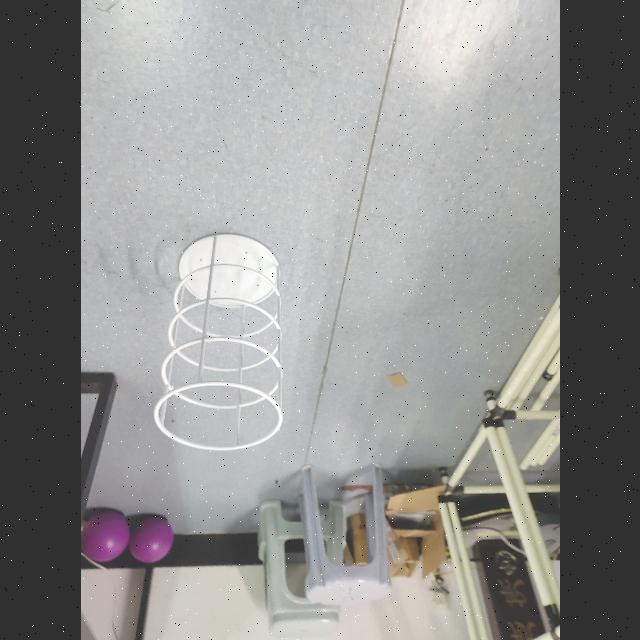S: (147, 229, 287, 455)
